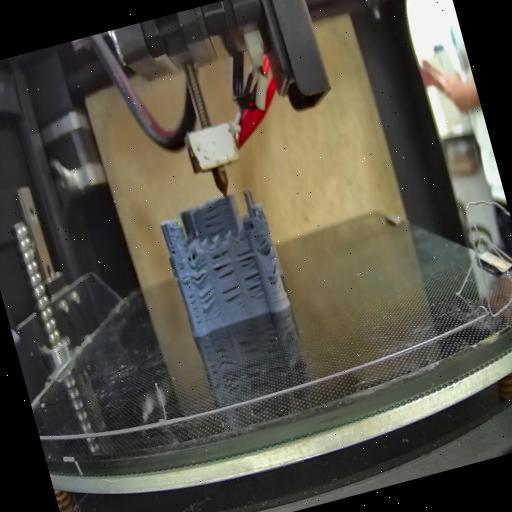cracks: (177, 262, 203, 328), (210, 248, 237, 284), (198, 203, 227, 236), (242, 271, 267, 301), (194, 286, 220, 314), (232, 243, 258, 269), (221, 282, 245, 310), (188, 258, 211, 285), (257, 233, 273, 256), (268, 263, 280, 276), (168, 243, 178, 256)
